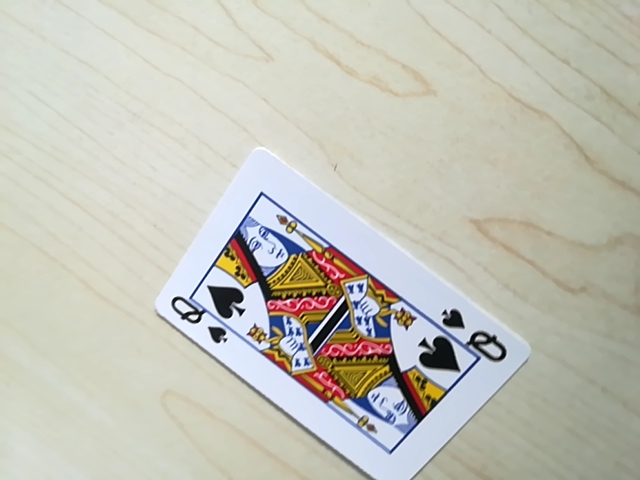ht q: (436, 304, 513, 359), (163, 298, 236, 342)
